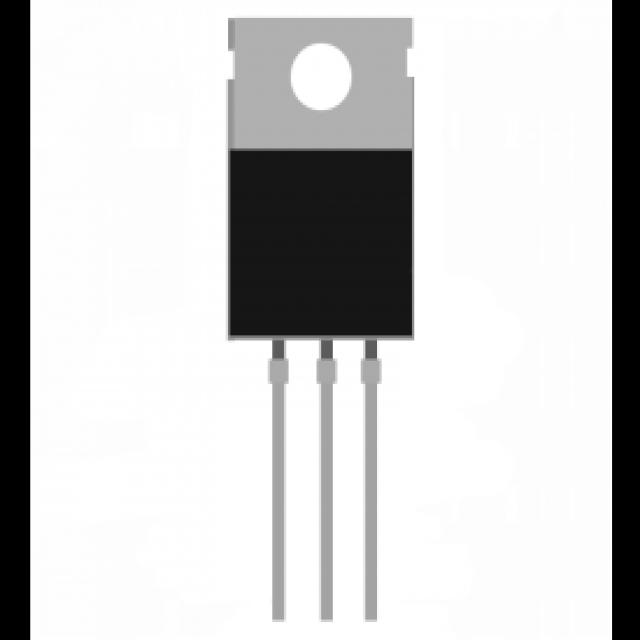Transistor: (224, 18, 416, 621)
